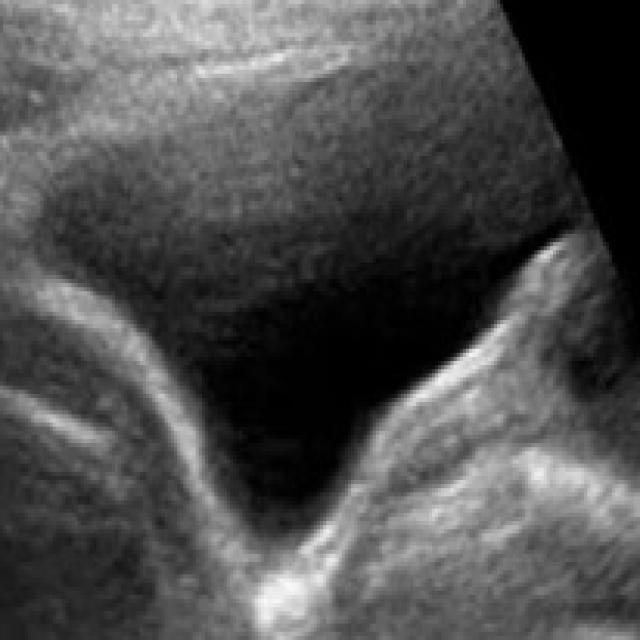bladder: (19, 38, 604, 600)
